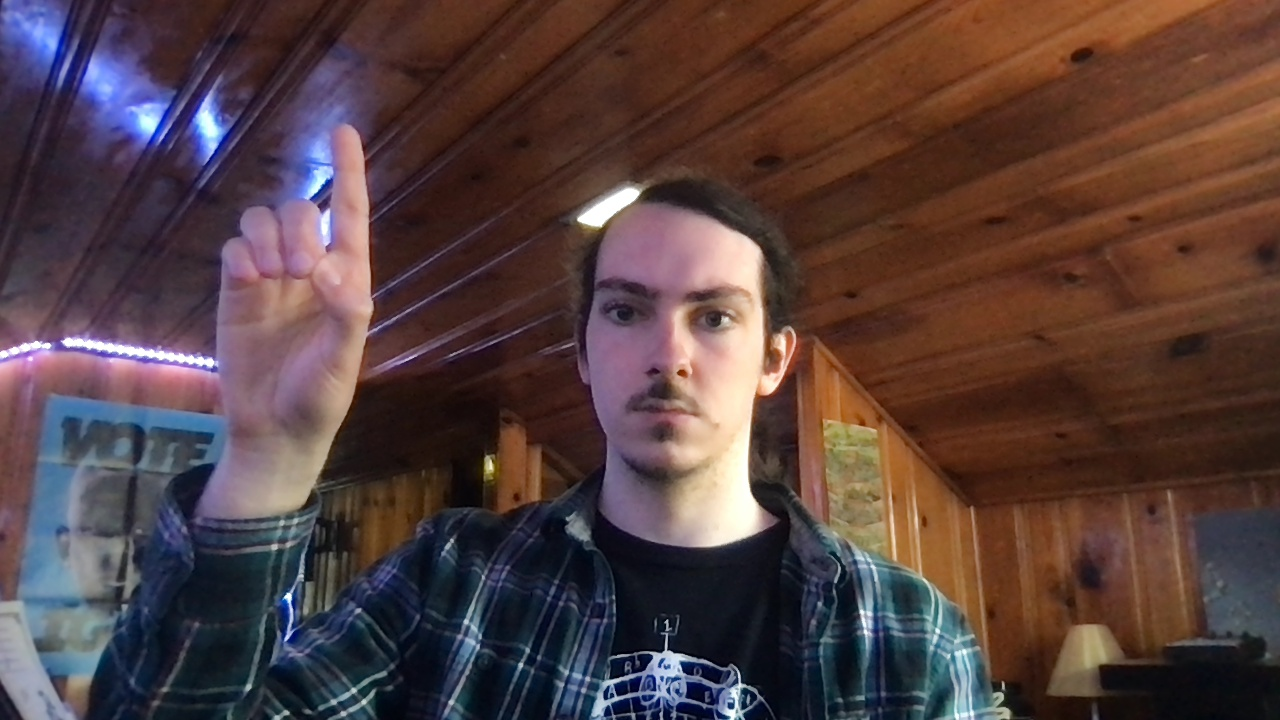d: (210, 120, 377, 446)
